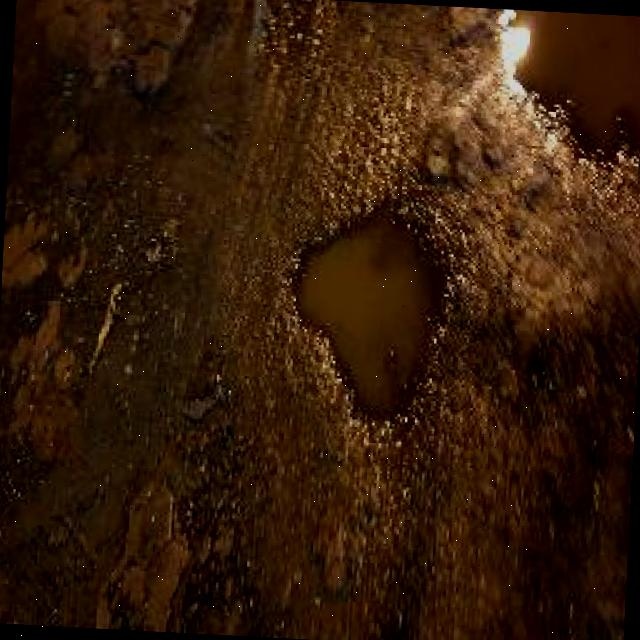stagnation: (280, 188, 468, 434), (458, 9, 640, 173)
